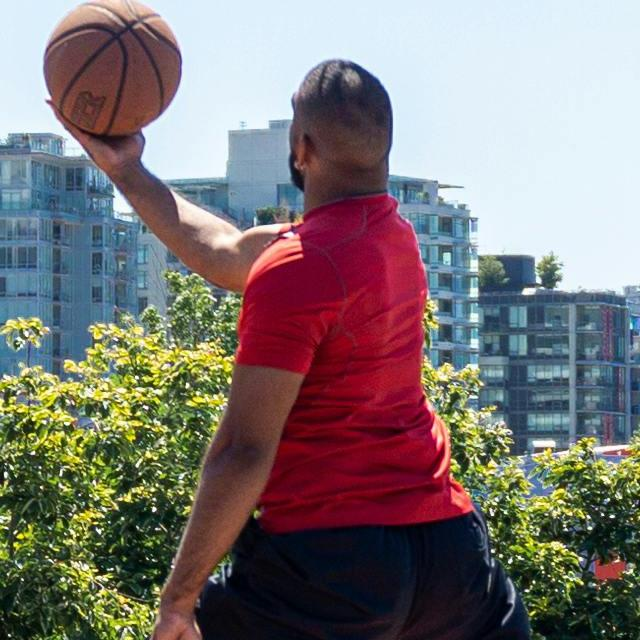basketball: (50, 0, 170, 140)
